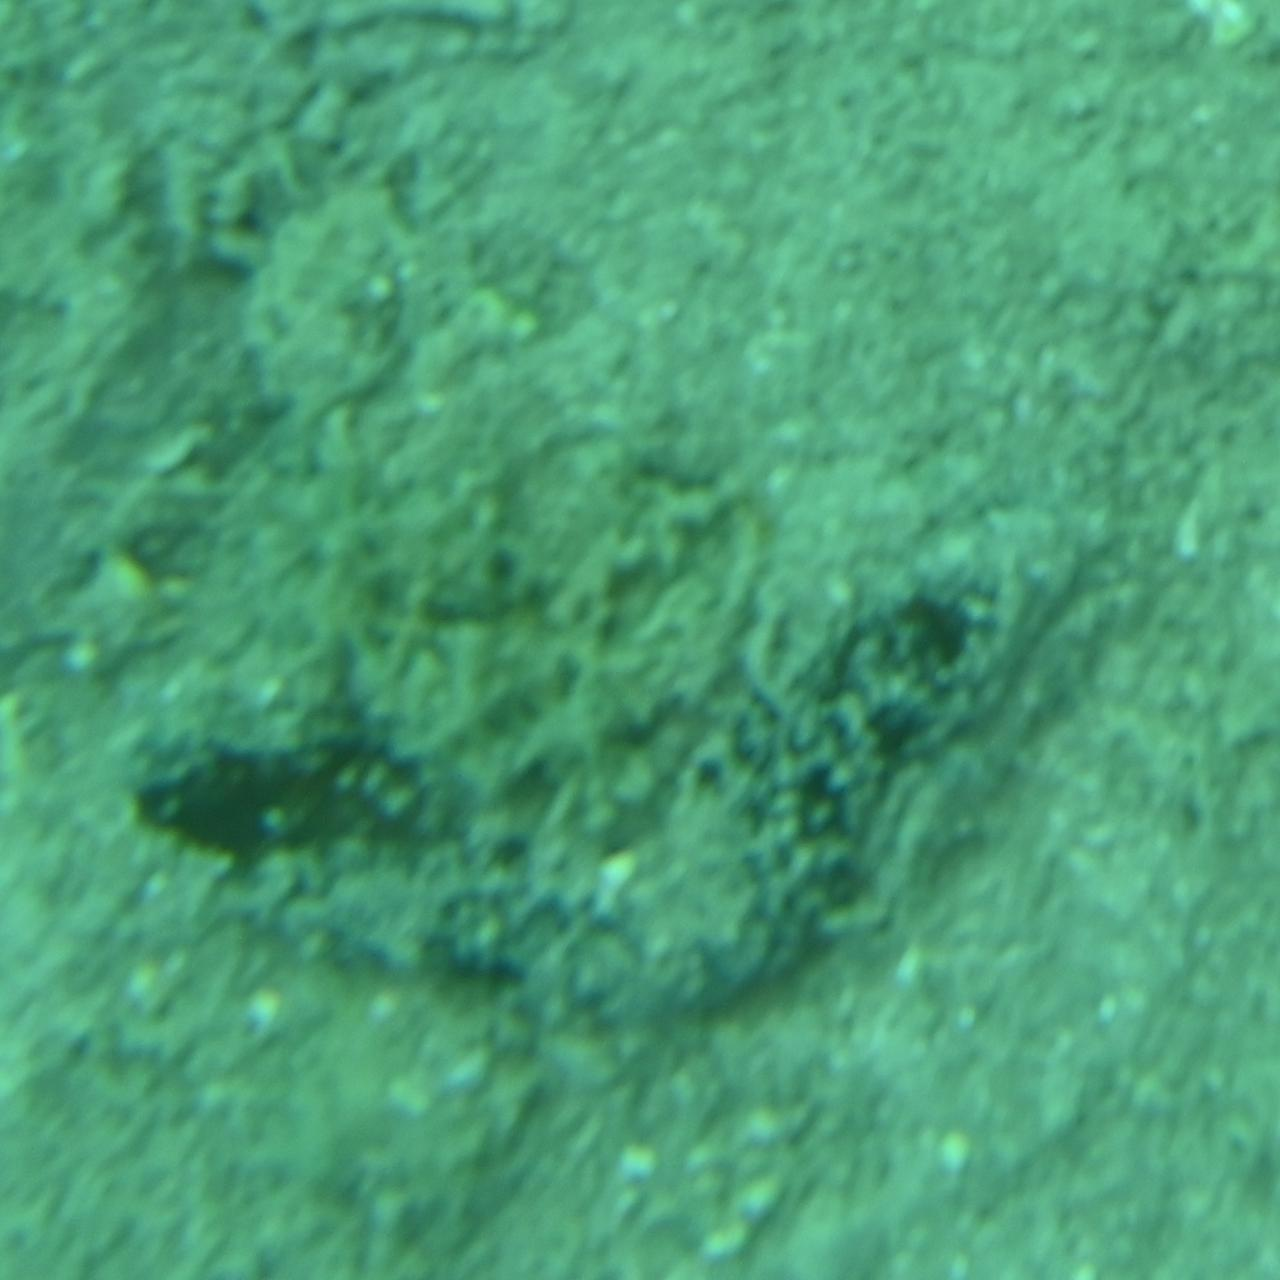Holothuria tubulosa: (134, 502, 1146, 1052)
